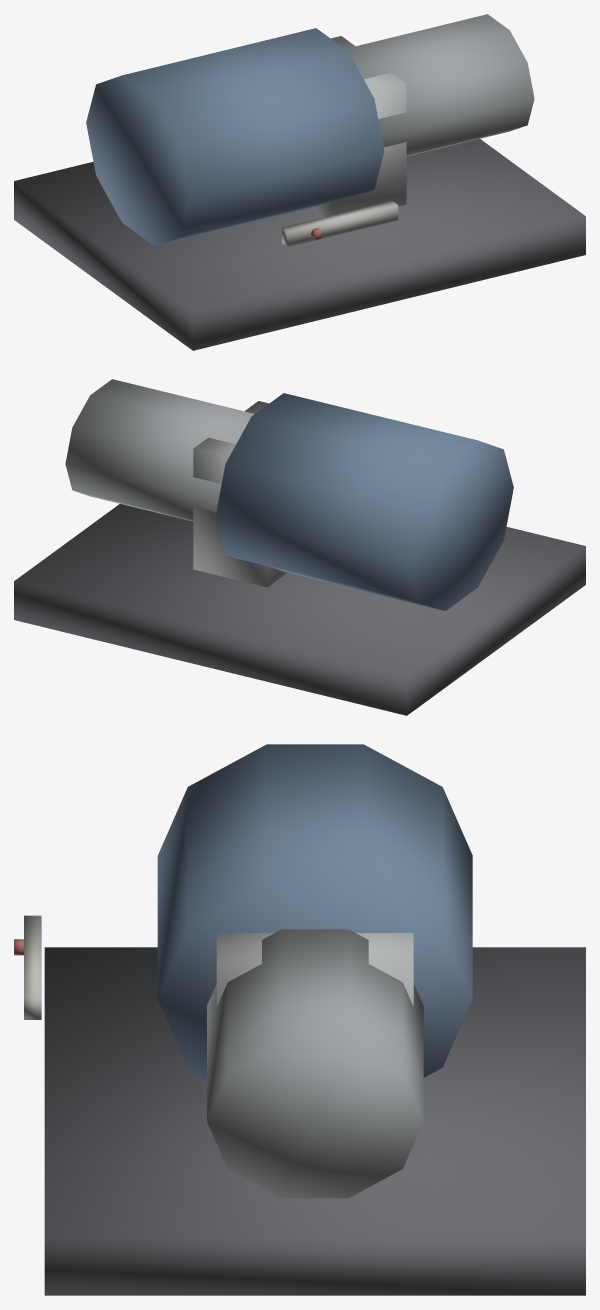
File: pump_skid__deep.glb
The picture shows the model from 3 angles, top to bottom: view 1: azimuth 30°, elevation 25°; view 2: azimuth 150°, elevation 25°; view 3: azimuth 270°, elevation 25°; orthographic projection. The views are drawn at different scales.
Visible parts, largest first — view 1: world; view 2: world; view 3: world.
Boxes of the visible parts, x1,y1,x2,y2 form: world: [14, 14, 585, 350]; world: [14, 379, 585, 715]; world: [14, 744, 585, 1295].
Size of the model in its own units: 0.855 by 0.3922 by 0.7088.
